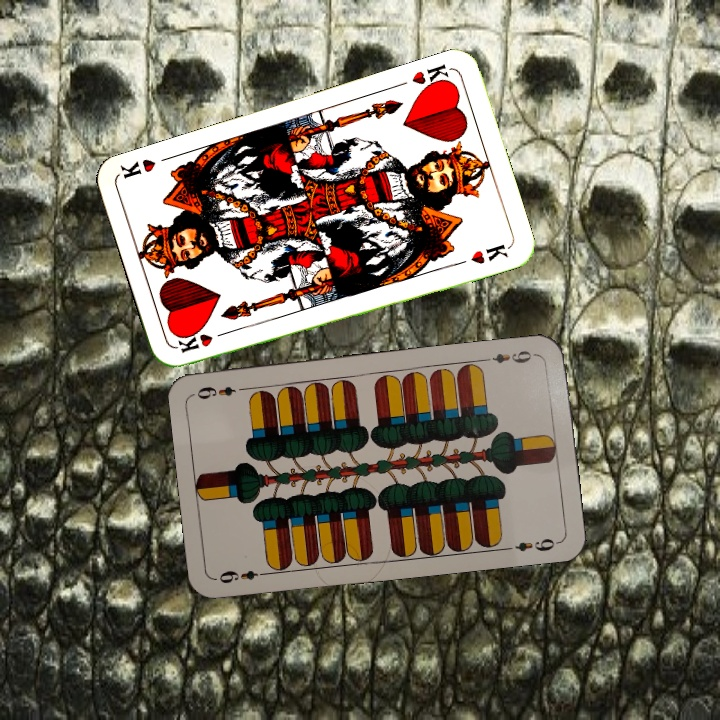E9: (480, 346, 540, 366), (215, 566, 272, 586)
HK: (173, 326, 232, 356), (408, 60, 455, 94)
